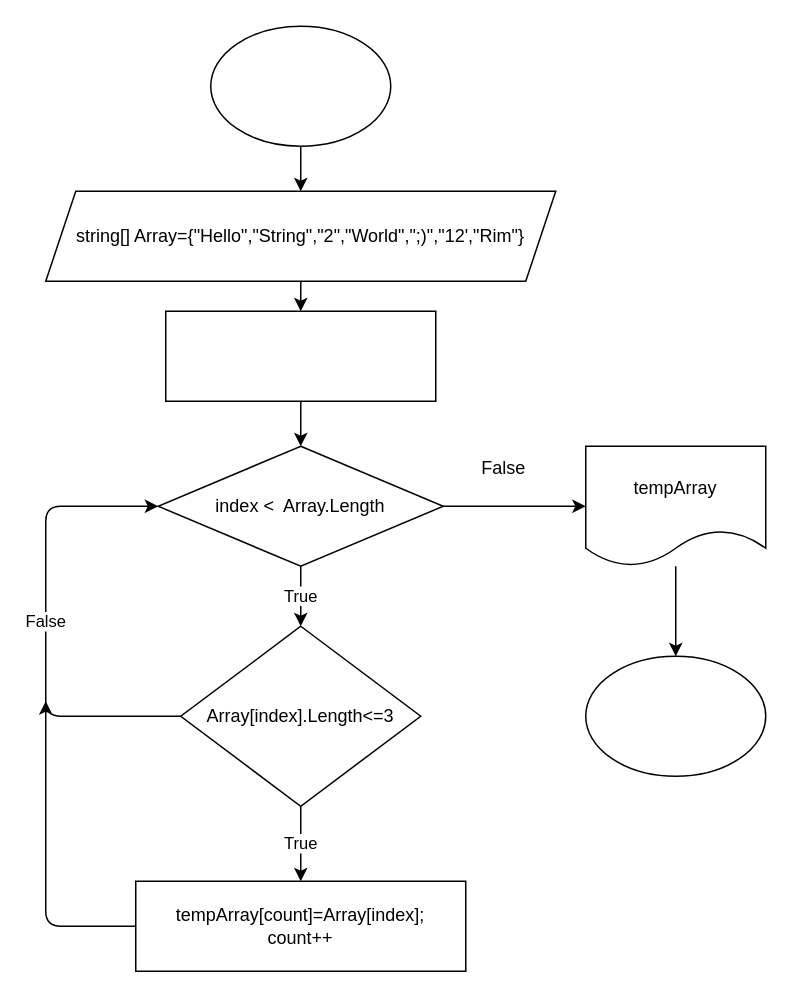
Some shapes in this 792 by 998 pixel diagram are drawn without their labels. Each missing label, with the centre of its shape:
End: pixel 675 715
Start: pixel 300 85
string[] tempArray; int index=0; int count=0: pixel 300 355
